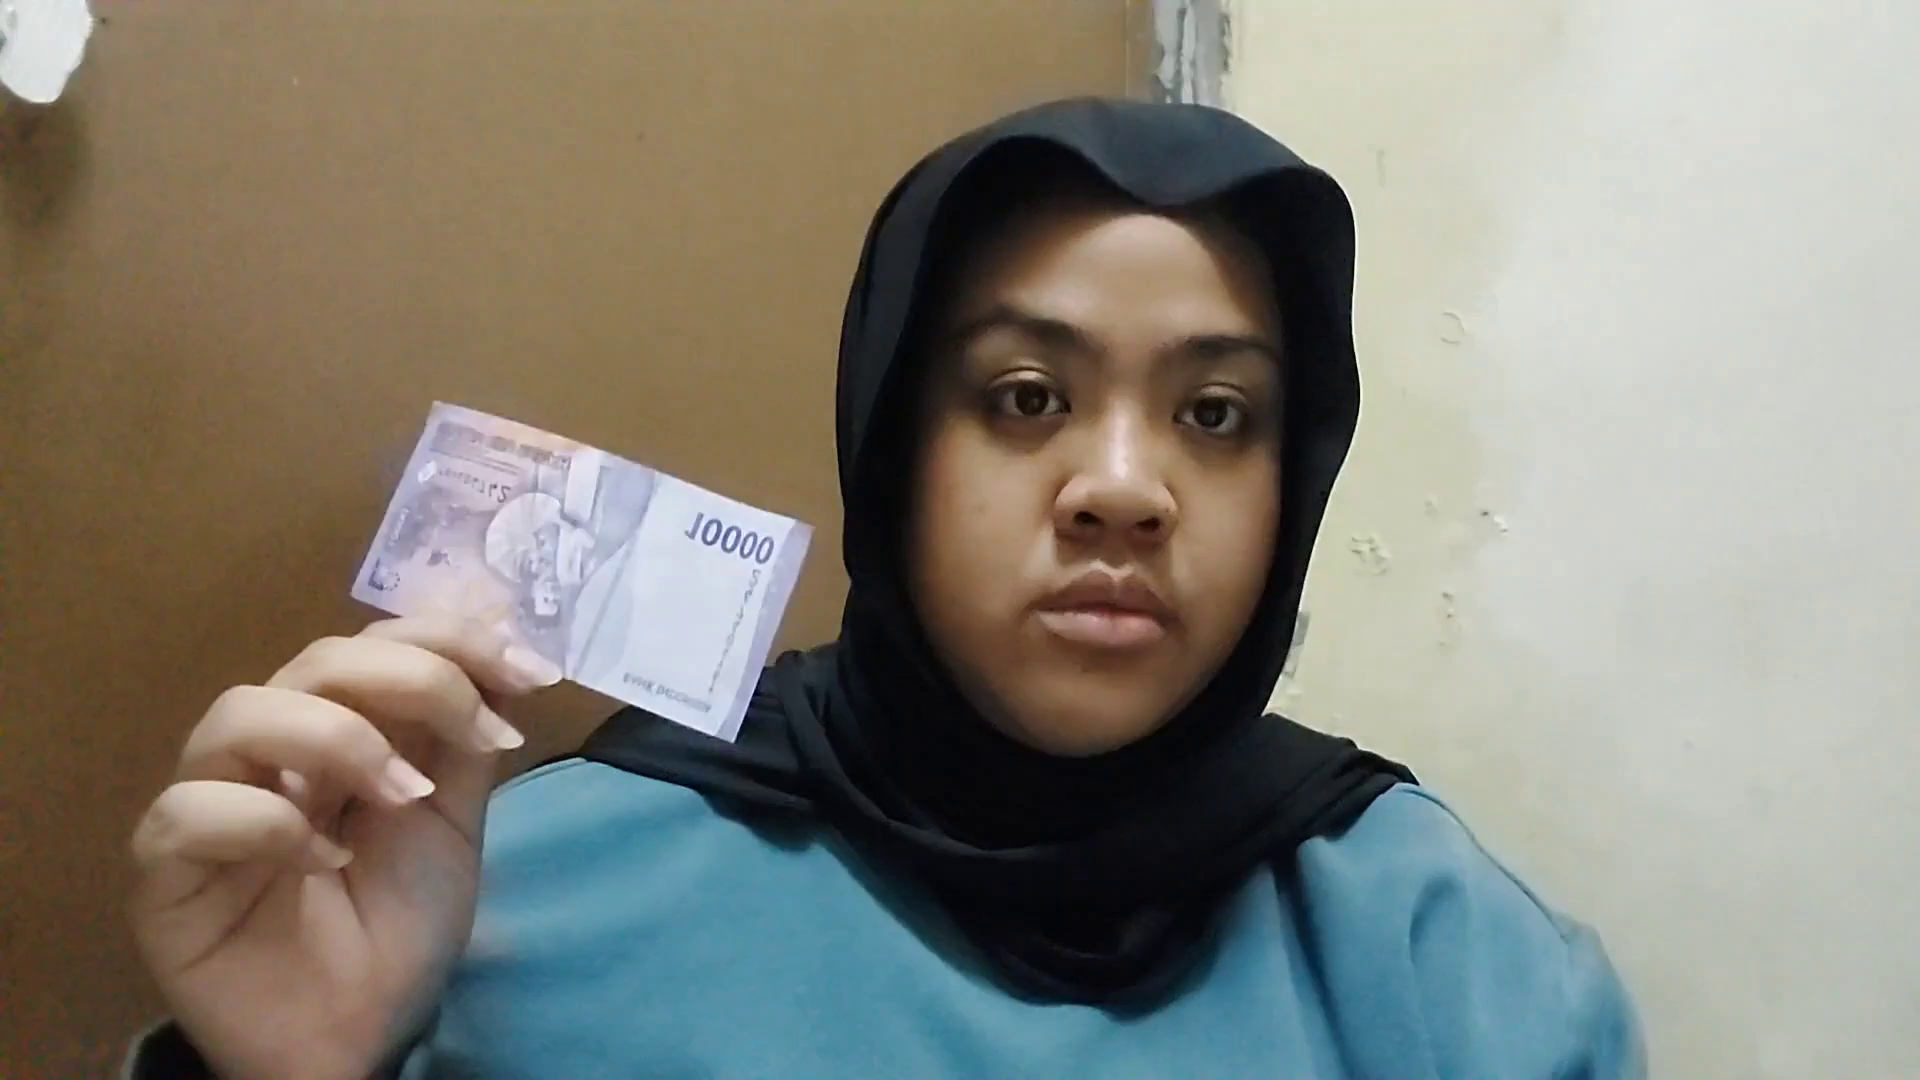10k: (415, 388, 849, 609)
